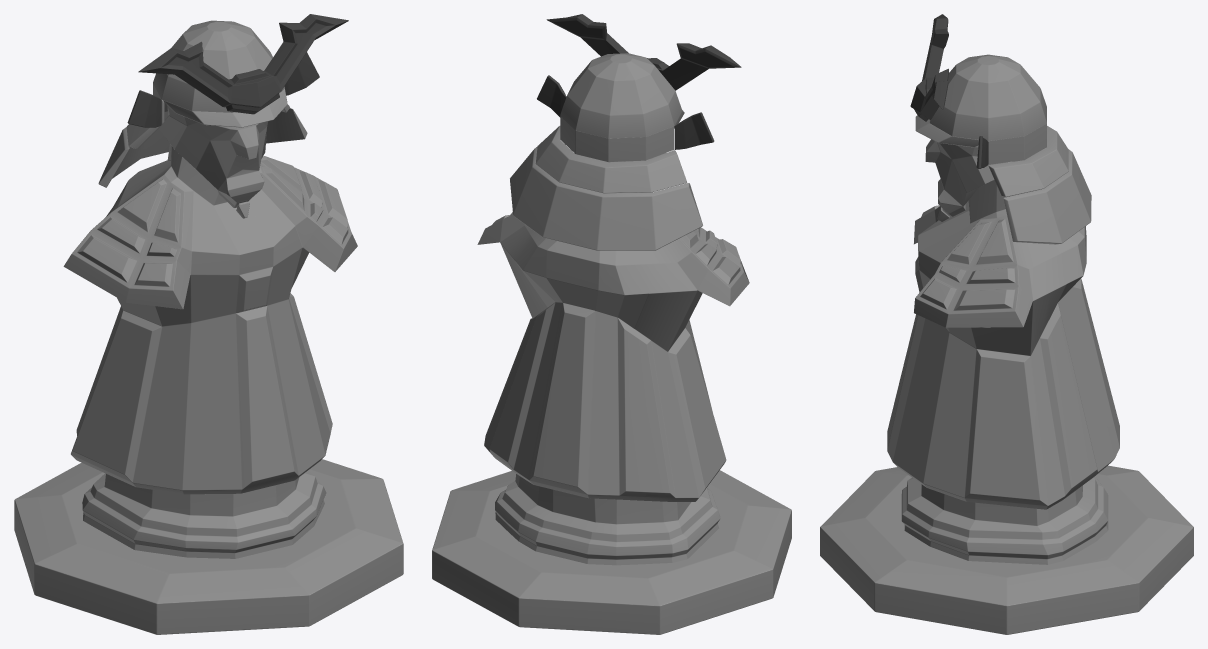
The model's file is samuray_q_w.glb.
3 renders of one model, left to right at view 1: azimuth 30°, elevation 25°; view 2: azimuth 150°, elevation 25°; view 3: azimuth 270°, elevation 25°, orthographic. The views are drawn at different scales.
Parts seen in each view (by area): view 1: b_K_2; view 2: b_K_2; view 3: b_K_2.
Boxes of the visible parts, x1=… form: b_K_2: x1=14, y1=14, x2=403, y2=634; b_K_2: x1=432, y1=14, x2=791, y2=634; b_K_2: x1=820, y1=14, x2=1193, y2=634.
Size of the model in its own units: 1.65 by 2.51 by 1.65.
1 material, 1 textured.
